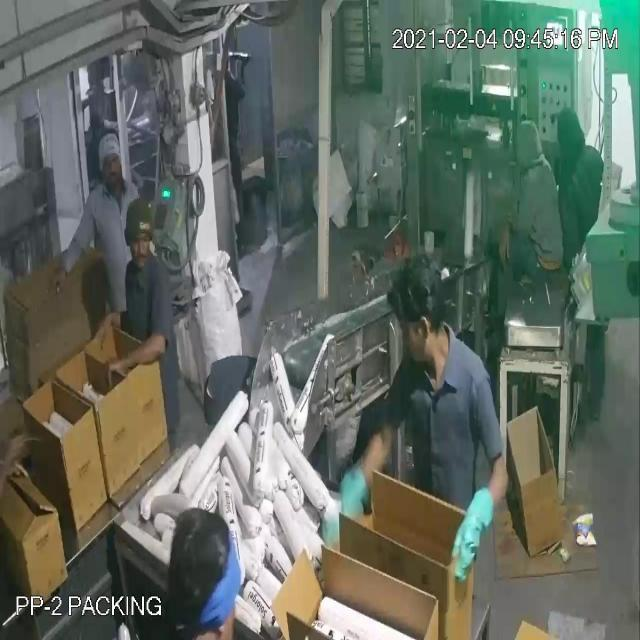No_Gloves: (20, 38, 509, 522)
